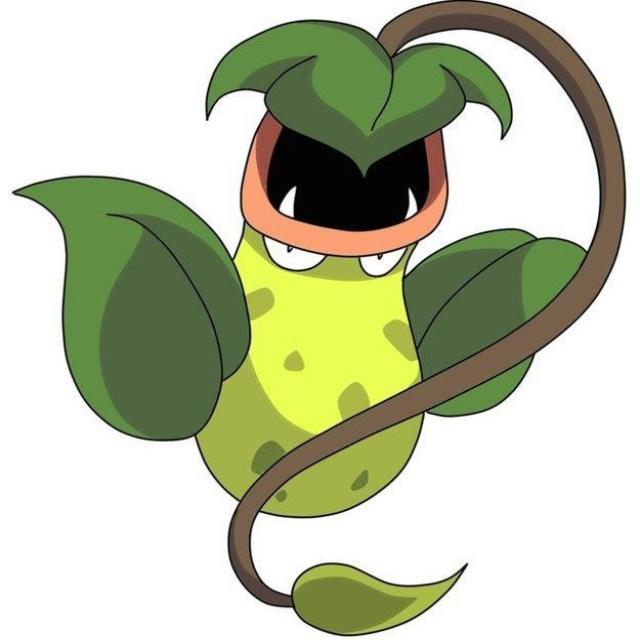Victreebel: (180, 10, 465, 522)
